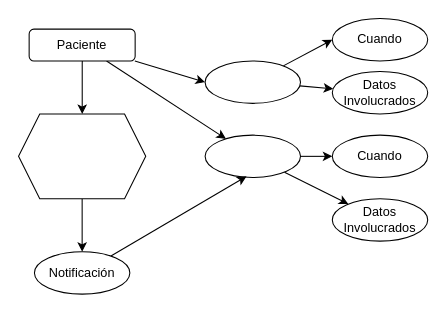
Some shapes in this 446 by 313 pixel diagram are drawn without their labels. Here are the shapes that lost their labels. From the top down, the centre of each, then its label:
(252,81): Quien lo Creó
(81,156): Cuando haya un cambio en un Registro
(252,156): Quien lo Actualizó
